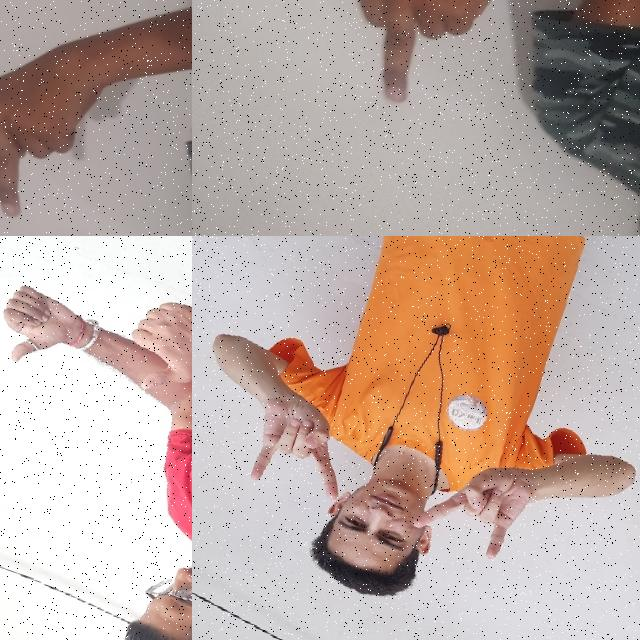Corna: (400, 429, 554, 577), (230, 376, 374, 520)
Middle Finger: (308, 0, 540, 149), (0, 5, 141, 236)
Thumbs Up: (103, 281, 192, 406), (0, 274, 85, 379)
